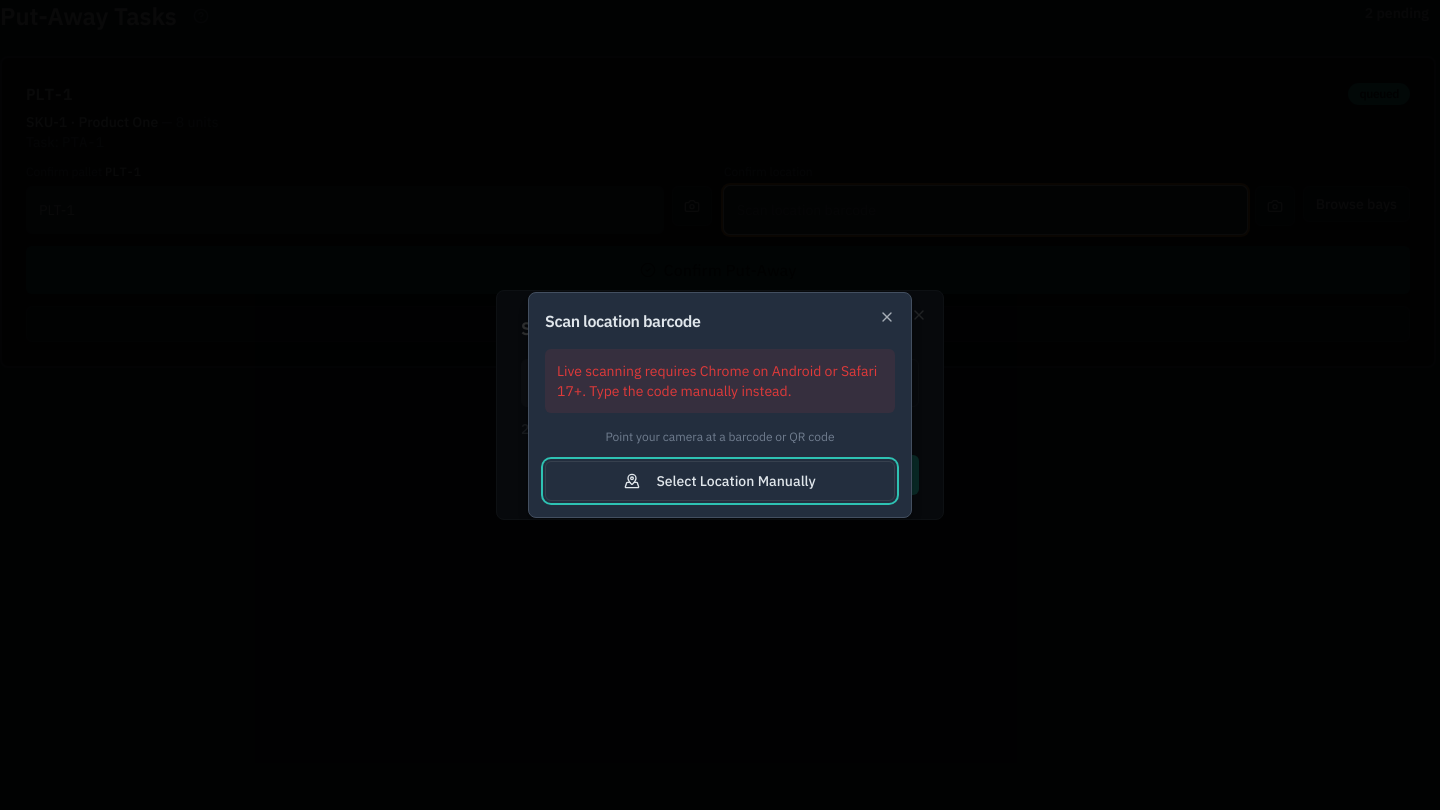
Test: PutawayTasksPage scan-first flow › switches from manual bay selection back to scanning
Earlier steps of the test are not shown.
Click the button "Select Location Manually" at (720, 481), box top-left (545, 461), bottom-right (895, 501)
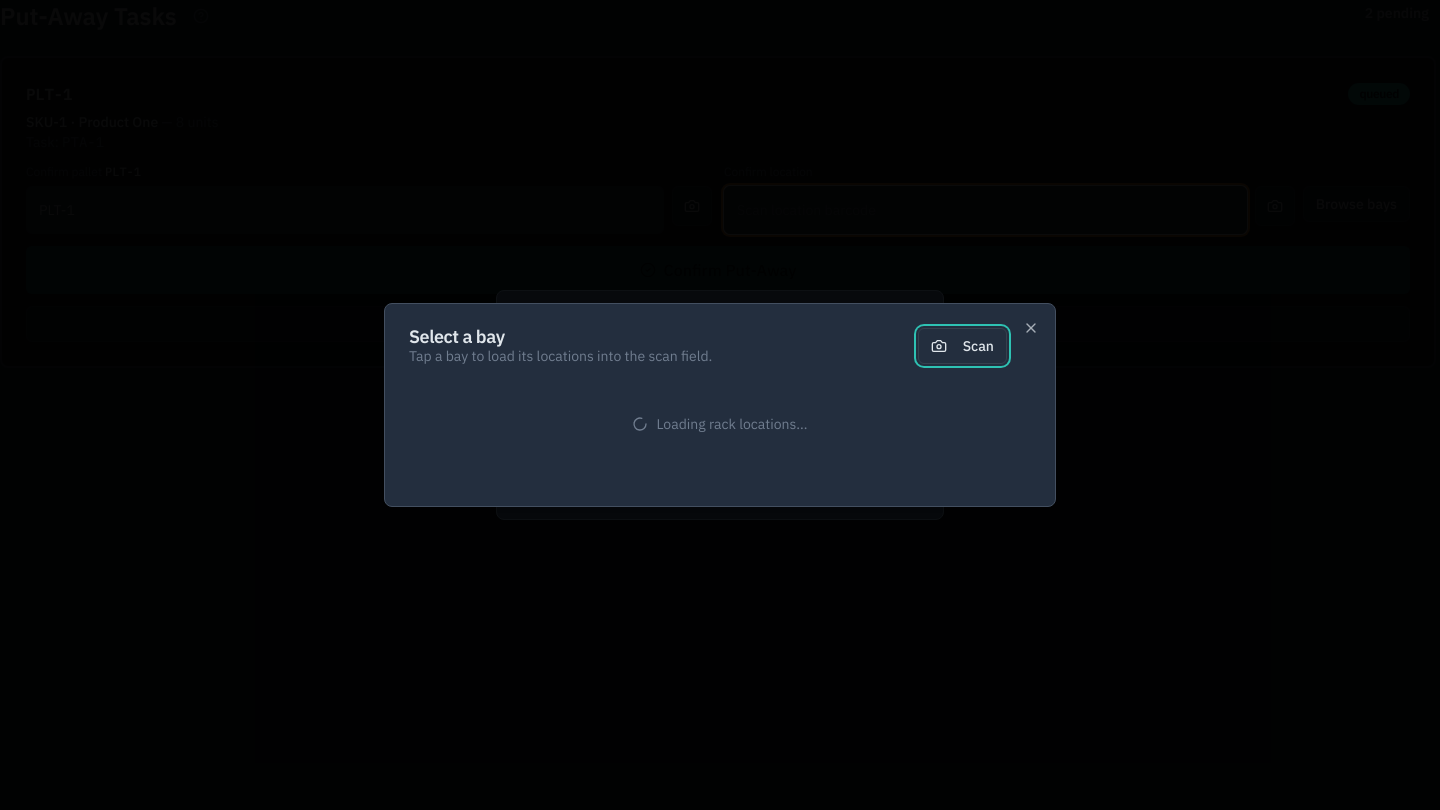
Click the button "Scan" at (962, 346), box top-left (918, 328), bottom-right (1007, 364)
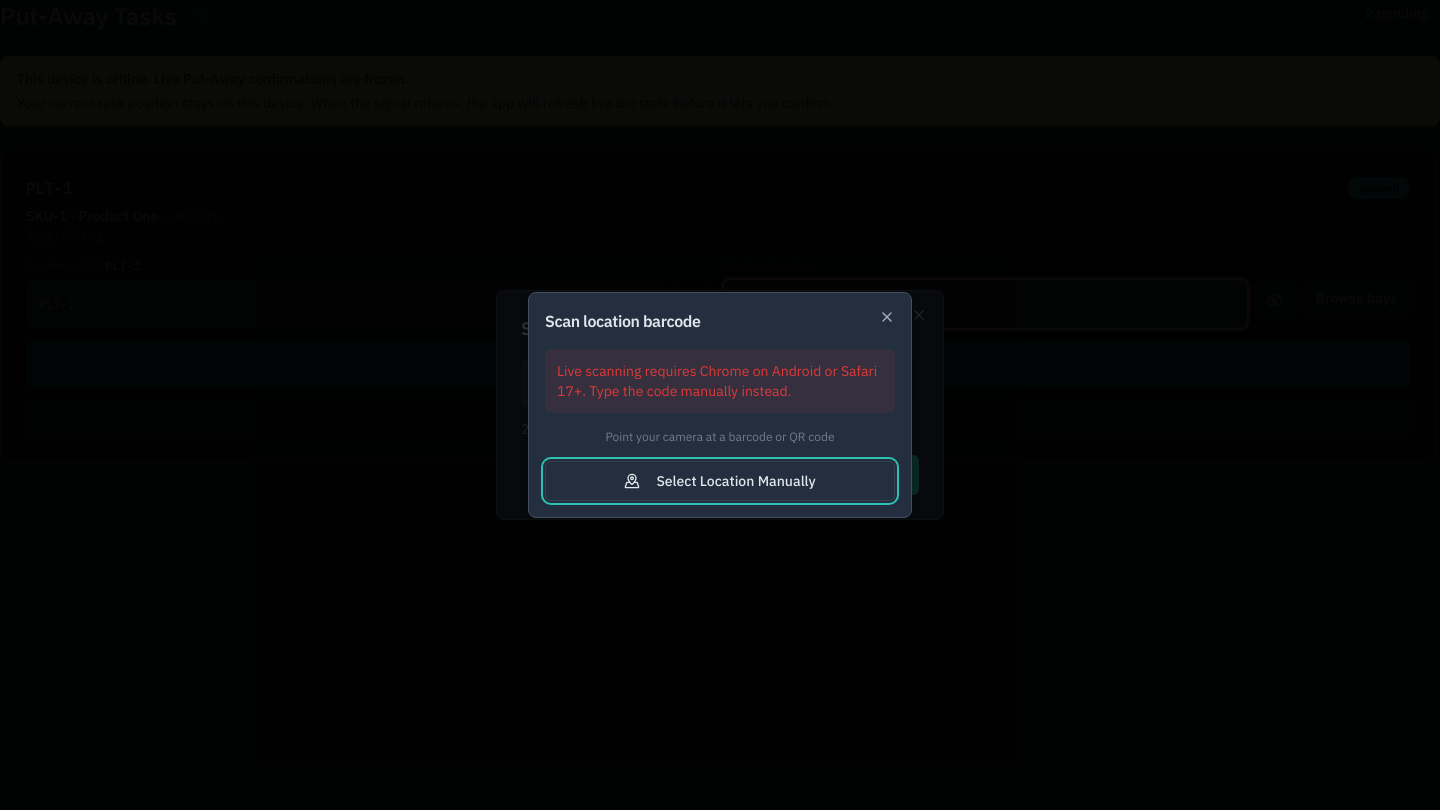
Now the dialog "Scan location barcode" is shown, box top-left (528, 292), bottom-right (912, 518)
